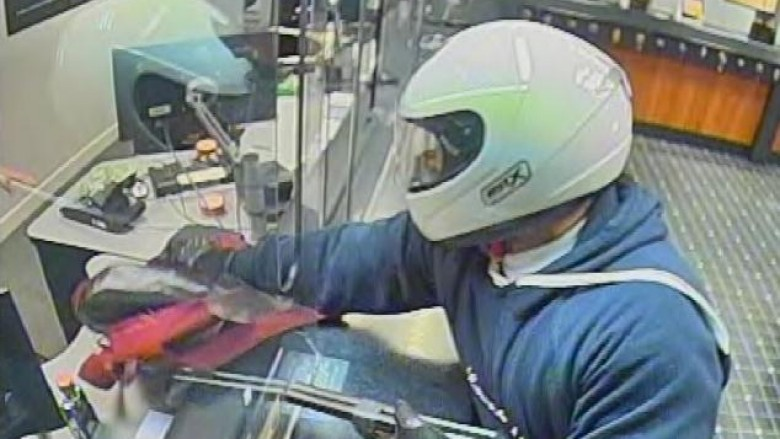helmet: (373, 9, 642, 254)
